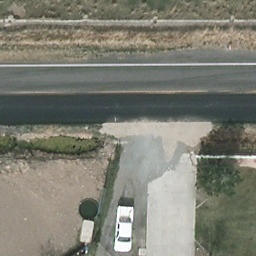car: (113, 205, 134, 252)
